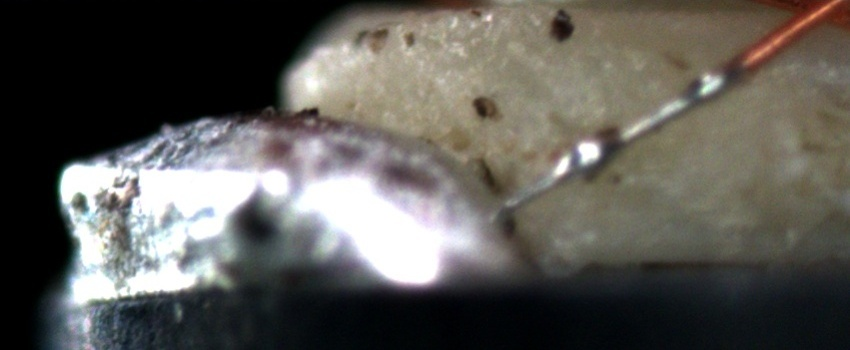CL: (779, 1, 848, 32)
TB: (556, 126, 619, 175), (683, 64, 734, 112)
TS: (498, 66, 732, 212)
TTCW: (495, 15, 796, 209)
